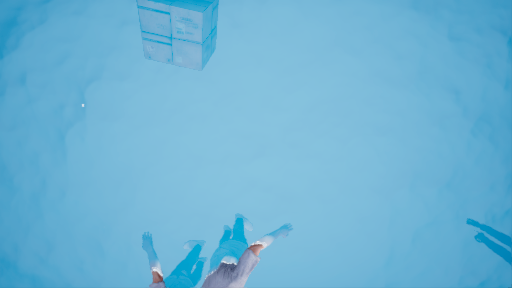person: (138, 211, 293, 288)
